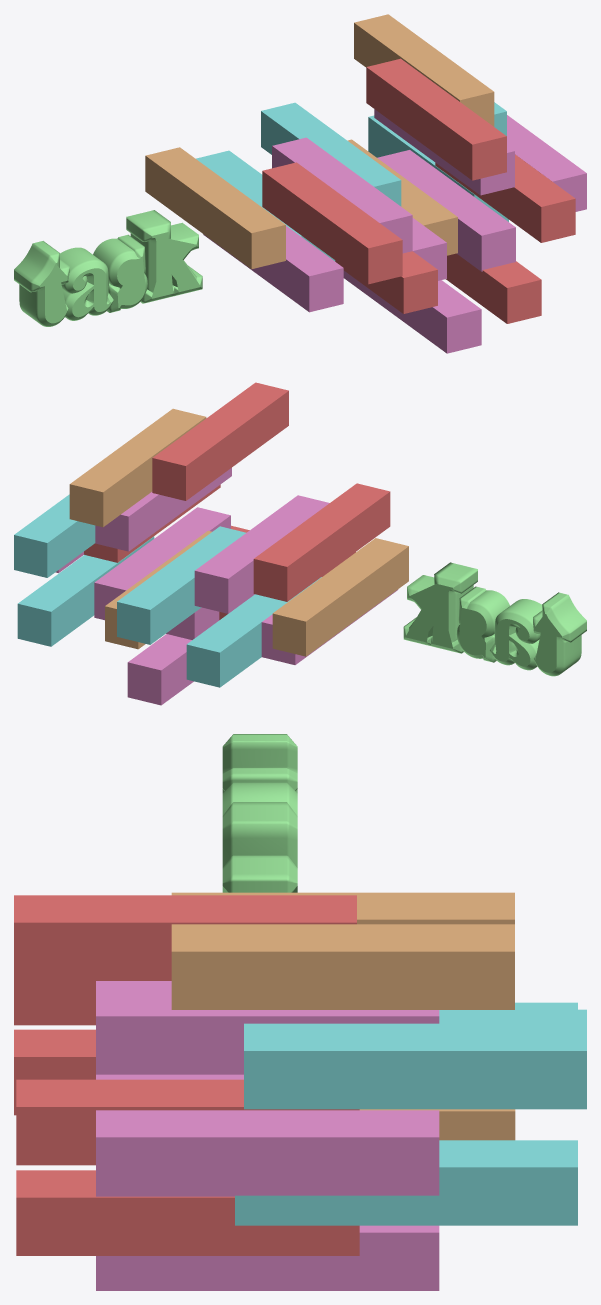
Rendered from storty.fbx.
3 renders of one model, top to bottom at view 1: azimuth 30°, elevation 25°; view 2: azimuth 150°, elevation 25°; view 3: azimuth 270°, elevation 25°, orthographic. The views are drawn at different scales.
Visible parts, largest first — view 1: polySurface9, pCube163, pCube193, pCube191, pCube181, pCube179, pCube170, pCube178, pCube158, pCube164, pCube160, pCube159 (+7 smaller); view 2: polySurface9, pCube193, pCube163, pCube191, pCube179, pCube158, pCube178, pCube182, pCube165, pCube181, pCube192, pCube159 (+5 smaller); view 3: pCube192, pCube171, pCube179, pCube191, pCube160, pCube182, pCube159, pCube180, polySurface9, pCube170, pCube163, pCube167 (+4 smaller).
Part boxes in pixels (bbox=[...]): polySurface9: bbox=[14, 210, 202, 326]; pCube163: bbox=[145, 147, 285, 269]; pCube193: bbox=[262, 162, 402, 284]; pCube191: bbox=[366, 58, 506, 180]; pCube181: bbox=[377, 150, 515, 271]; pCube179: bbox=[354, 14, 494, 126]; pCube170: bbox=[435, 154, 575, 242]; pCube178: bbox=[272, 137, 412, 253]; pCube158: bbox=[261, 102, 401, 206]; pCube164: bbox=[203, 226, 343, 312]; pCube160: bbox=[446, 253, 541, 323]; pCube159: bbox=[343, 270, 481, 353]; polySurface9: bbox=[403, 562, 586, 676]; pCube193: bbox=[253, 483, 390, 601]; pCube163: bbox=[272, 538, 408, 656]; pCube191: bbox=[152, 382, 288, 500]; pCube179: bbox=[69, 408, 206, 527]; pCube158: bbox=[117, 526, 246, 644]; pCube178: bbox=[194, 495, 329, 613]; pCube182: bbox=[17, 536, 154, 646]; pCube165: bbox=[186, 577, 321, 687]; pCube181: bbox=[94, 507, 230, 620]; pCube192: bbox=[14, 494, 95, 577]; pCube159: bbox=[127, 634, 193, 705]; pCube192: bbox=[244, 1023, 586, 1109]; pCube171: bbox=[96, 1110, 439, 1195]; pCube179: bbox=[171, 924, 514, 1009]; pCube191: bbox=[14, 895, 356, 980]; pCube160: bbox=[16, 1170, 359, 1255]; pCube182: bbox=[235, 1140, 577, 1225]; pCube159: bbox=[96, 1225, 439, 1290]; pCube180: bbox=[96, 989, 439, 1074]; polySurface9: bbox=[222, 734, 297, 892]; pCube170: bbox=[16, 1079, 359, 1165]; pCube163: bbox=[171, 892, 514, 924]; pCube167: bbox=[14, 1029, 95, 1115].
Bounding box in the file's own units: 4.48 × 1.89 × 2.67.
